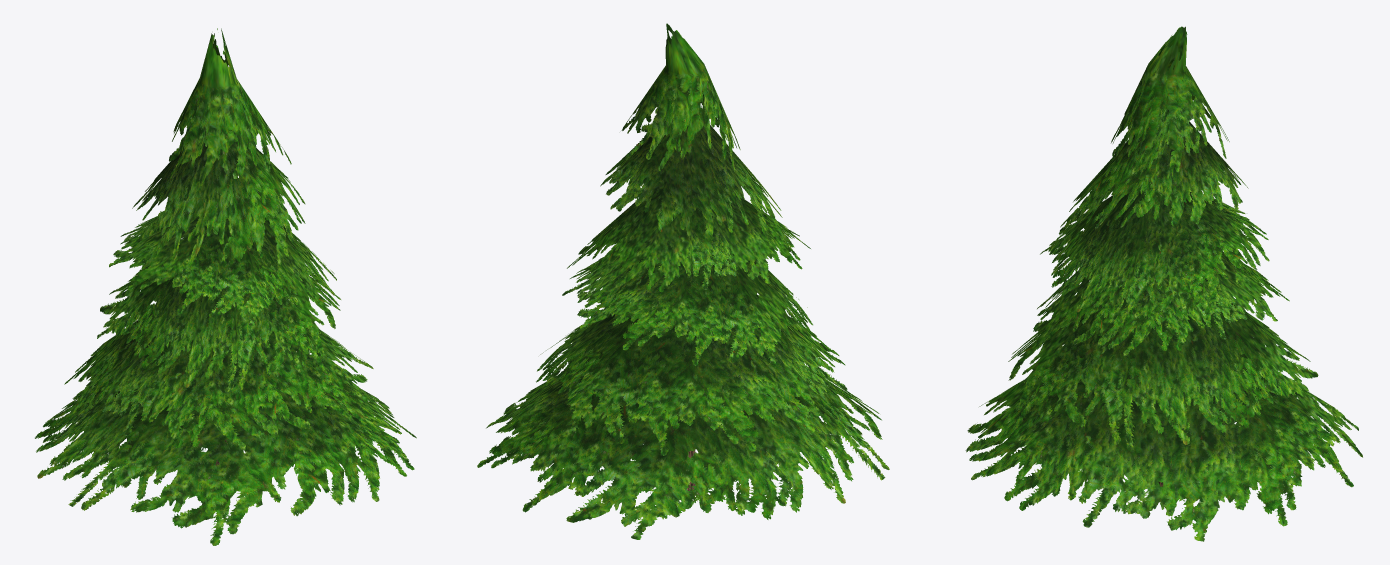
Rendered from mootree.FBX.
The picture shows the model from 3 angles, left to right: view 1: azimuth 30°, elevation 25°; view 2: azimuth 150°, elevation 25°; view 3: azimuth 270°, elevation 25°; orthographic projection. The views are drawn at different scales.
Parts seen in each view (by area): view 1: Cylinder10, Cylinder06, Cylinder09, Cylinder08, Cylinder54, Cylinder07; view 2: Cylinder10, Cylinder06, Cylinder09, Cylinder54, Cylinder08, Cylinder07; view 3: Cylinder10, Cylinder06, Cylinder54, Cylinder09, Cylinder08, Cylinder07.
Boxes of the visible parts, x1=… form: Cylinder10: x1=35, y1=352, x2=416, y2=545; Cylinder06: x1=64, y1=308, x2=373, y2=449; Cylinder09: x1=97, y1=263, x2=340, y2=391; Cylinder08: x1=132, y1=132, x2=305, y2=270; Cylinder54: x1=109, y1=216, x2=336, y2=325; Cylinder07: x1=169, y1=28, x2=291, y2=185; Cylinder10: x1=477, y1=351, x2=889, y2=539; Cylinder06: x1=536, y1=294, x2=847, y2=455; Cylinder09: x1=562, y1=253, x2=812, y2=365; Cylinder54: x1=567, y1=180, x2=810, y2=292; Cylinder08: x1=600, y1=119, x2=788, y2=249; Cylinder07: x1=621, y1=23, x2=740, y2=171; Cylinder10: x1=965, y1=354, x2=1362, y2=541; Cylinder06: x1=1008, y1=301, x2=1318, y2=447; Cylinder54: x1=1040, y1=182, x2=1269, y2=323; Cylinder09: x1=1031, y1=245, x2=1289, y2=356; Cylinder08: x1=1060, y1=110, x2=1248, y2=229; Cylinder07: x1=1111, y1=26, x2=1229, y2=187.
Size of the model in its own units: 281 by 341 by 283.
Materials: 2 (2 with a texture image).
